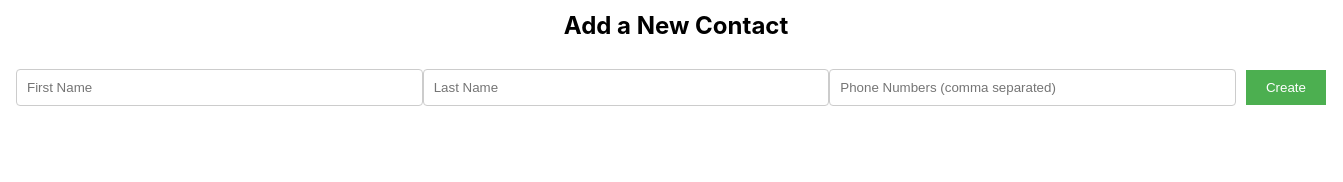
Scenario: renders a form to create a new contact
Type "Georgina" into the field with placeholder "First Name" at (219, 88), box [16, 69, 423, 106]
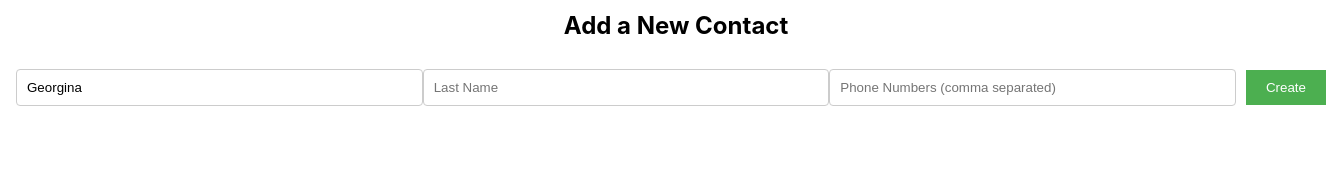
Type "Laura" into the field with placeholder "Last Name" at (626, 88), box [423, 69, 829, 106]
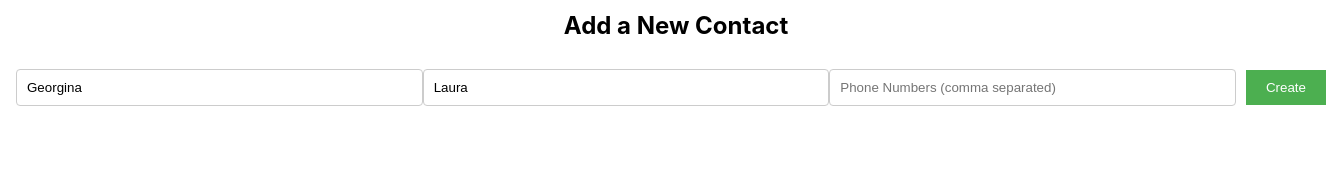
Type "08889827187" into the field with placeholder "Phone Numbers (comma separated)" at (1033, 88), box [829, 69, 1236, 106]
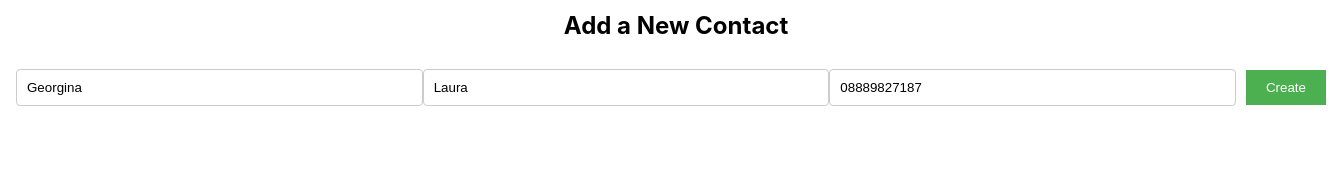
Click the button "Create" at (1286, 88), box [1246, 70, 1326, 105]
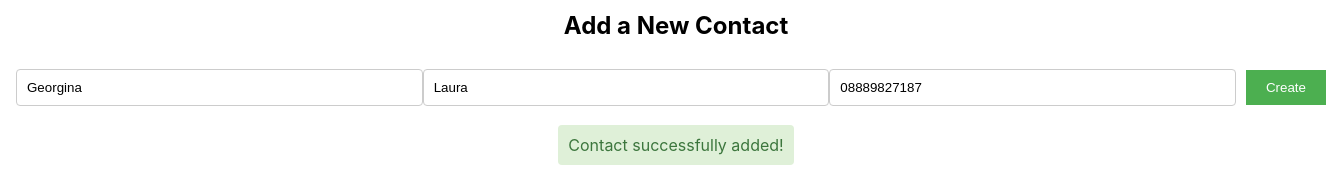
expect the text "Contact successfully added!" is shown: met, box [558, 125, 794, 165]
